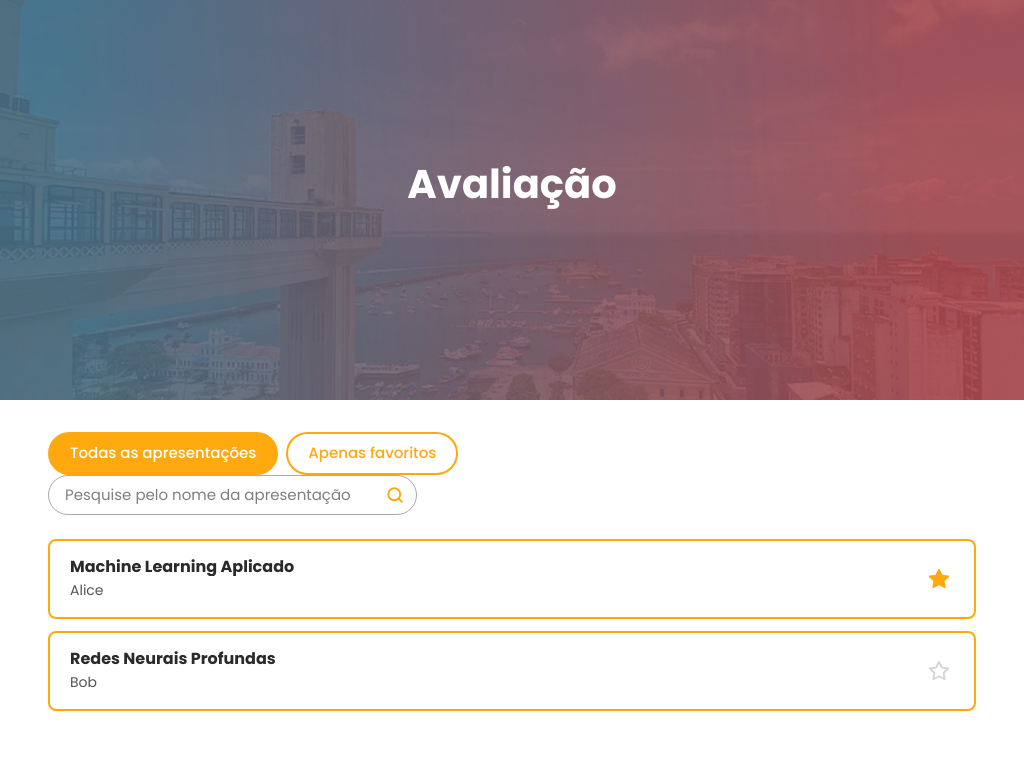
Test: AvaliacaoListagemPage › switches to favorites tab and shows only bookmarked
This screenshot has width=1024, height=768.
Expected: the heading "Machine Learning Aplicado" is shown, [70,555,294,578]
What coordinates should you click on to do the following:
click the tab "Apenas favoritos"
I would click on:
 (372, 453)
Its box is [286,432,458,474].
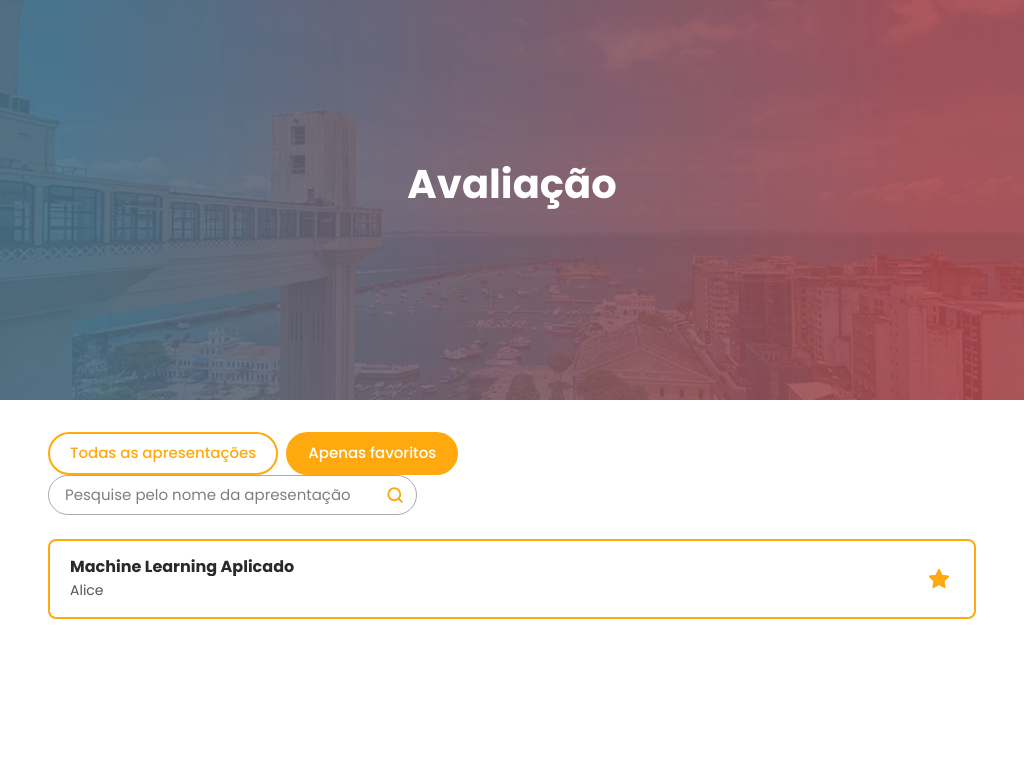
Expected: the heading "Machine Learning Aplicado" is shown, [70,555,294,578]
Expected: the button "Redes Neurais Profundas" is gone
